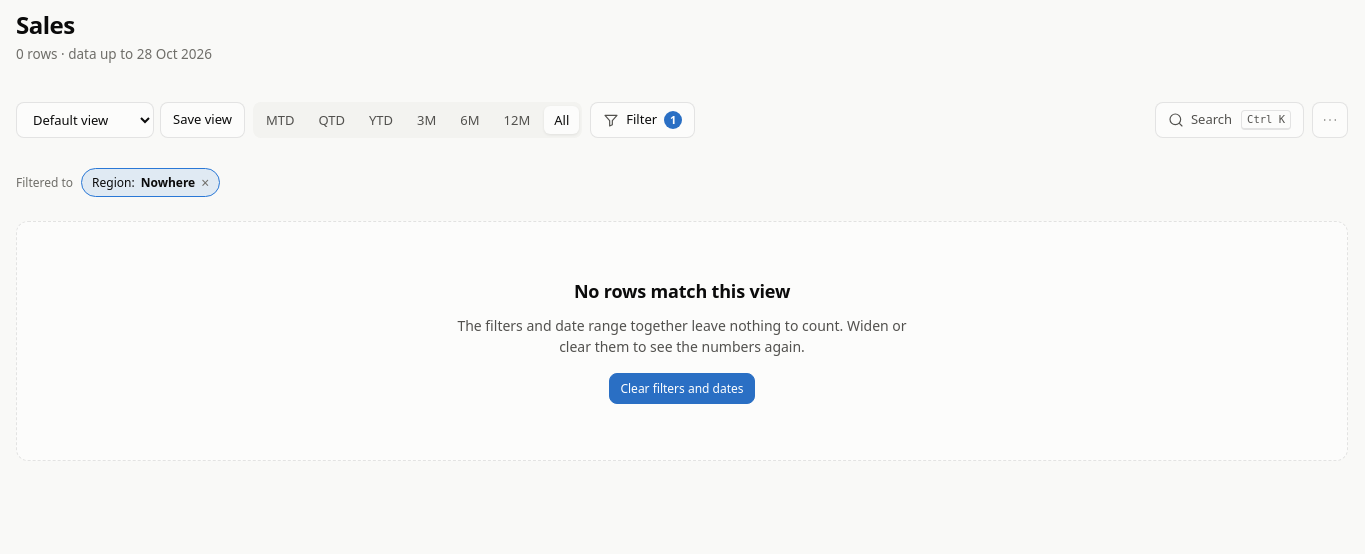
Test: DashboardView › says so when the filters leave no rows, and clears them in one click
The width and height of the screenshot is (1365, 554).
Expected: the heading "No rows match this view" is shown, [574,278,790,305]
Click the button "Clear filters and dates" at (682, 388), box [609,373,754,404]
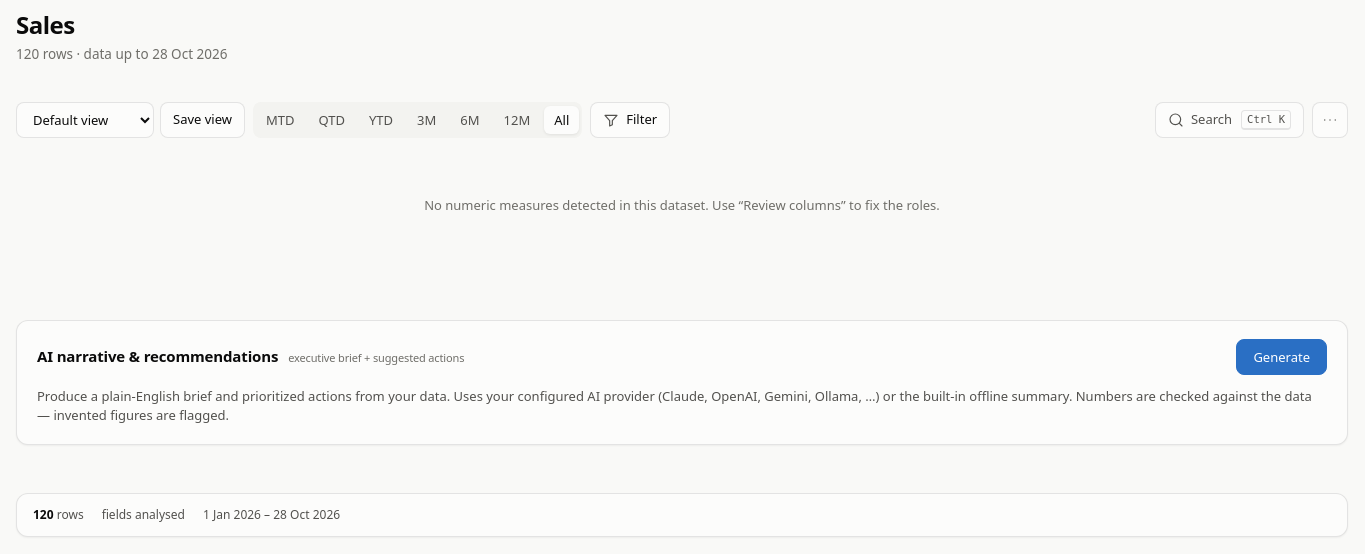
Now the heading "No rows match this view" is gone
